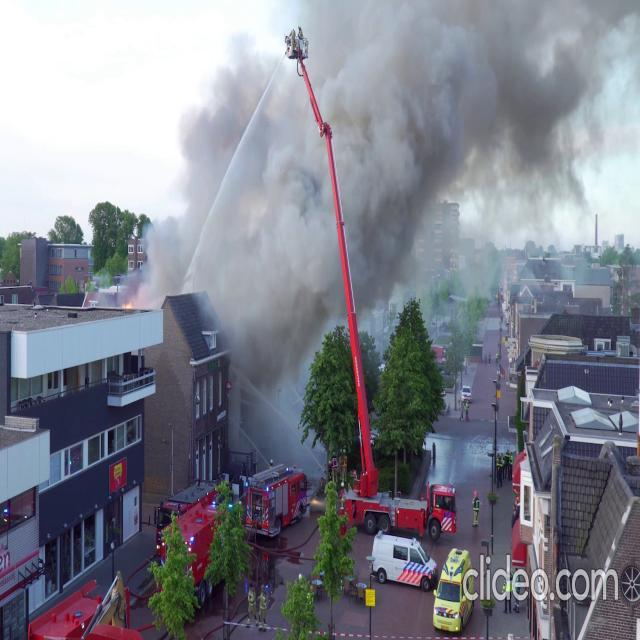Smoke: (142, 0, 638, 377)
